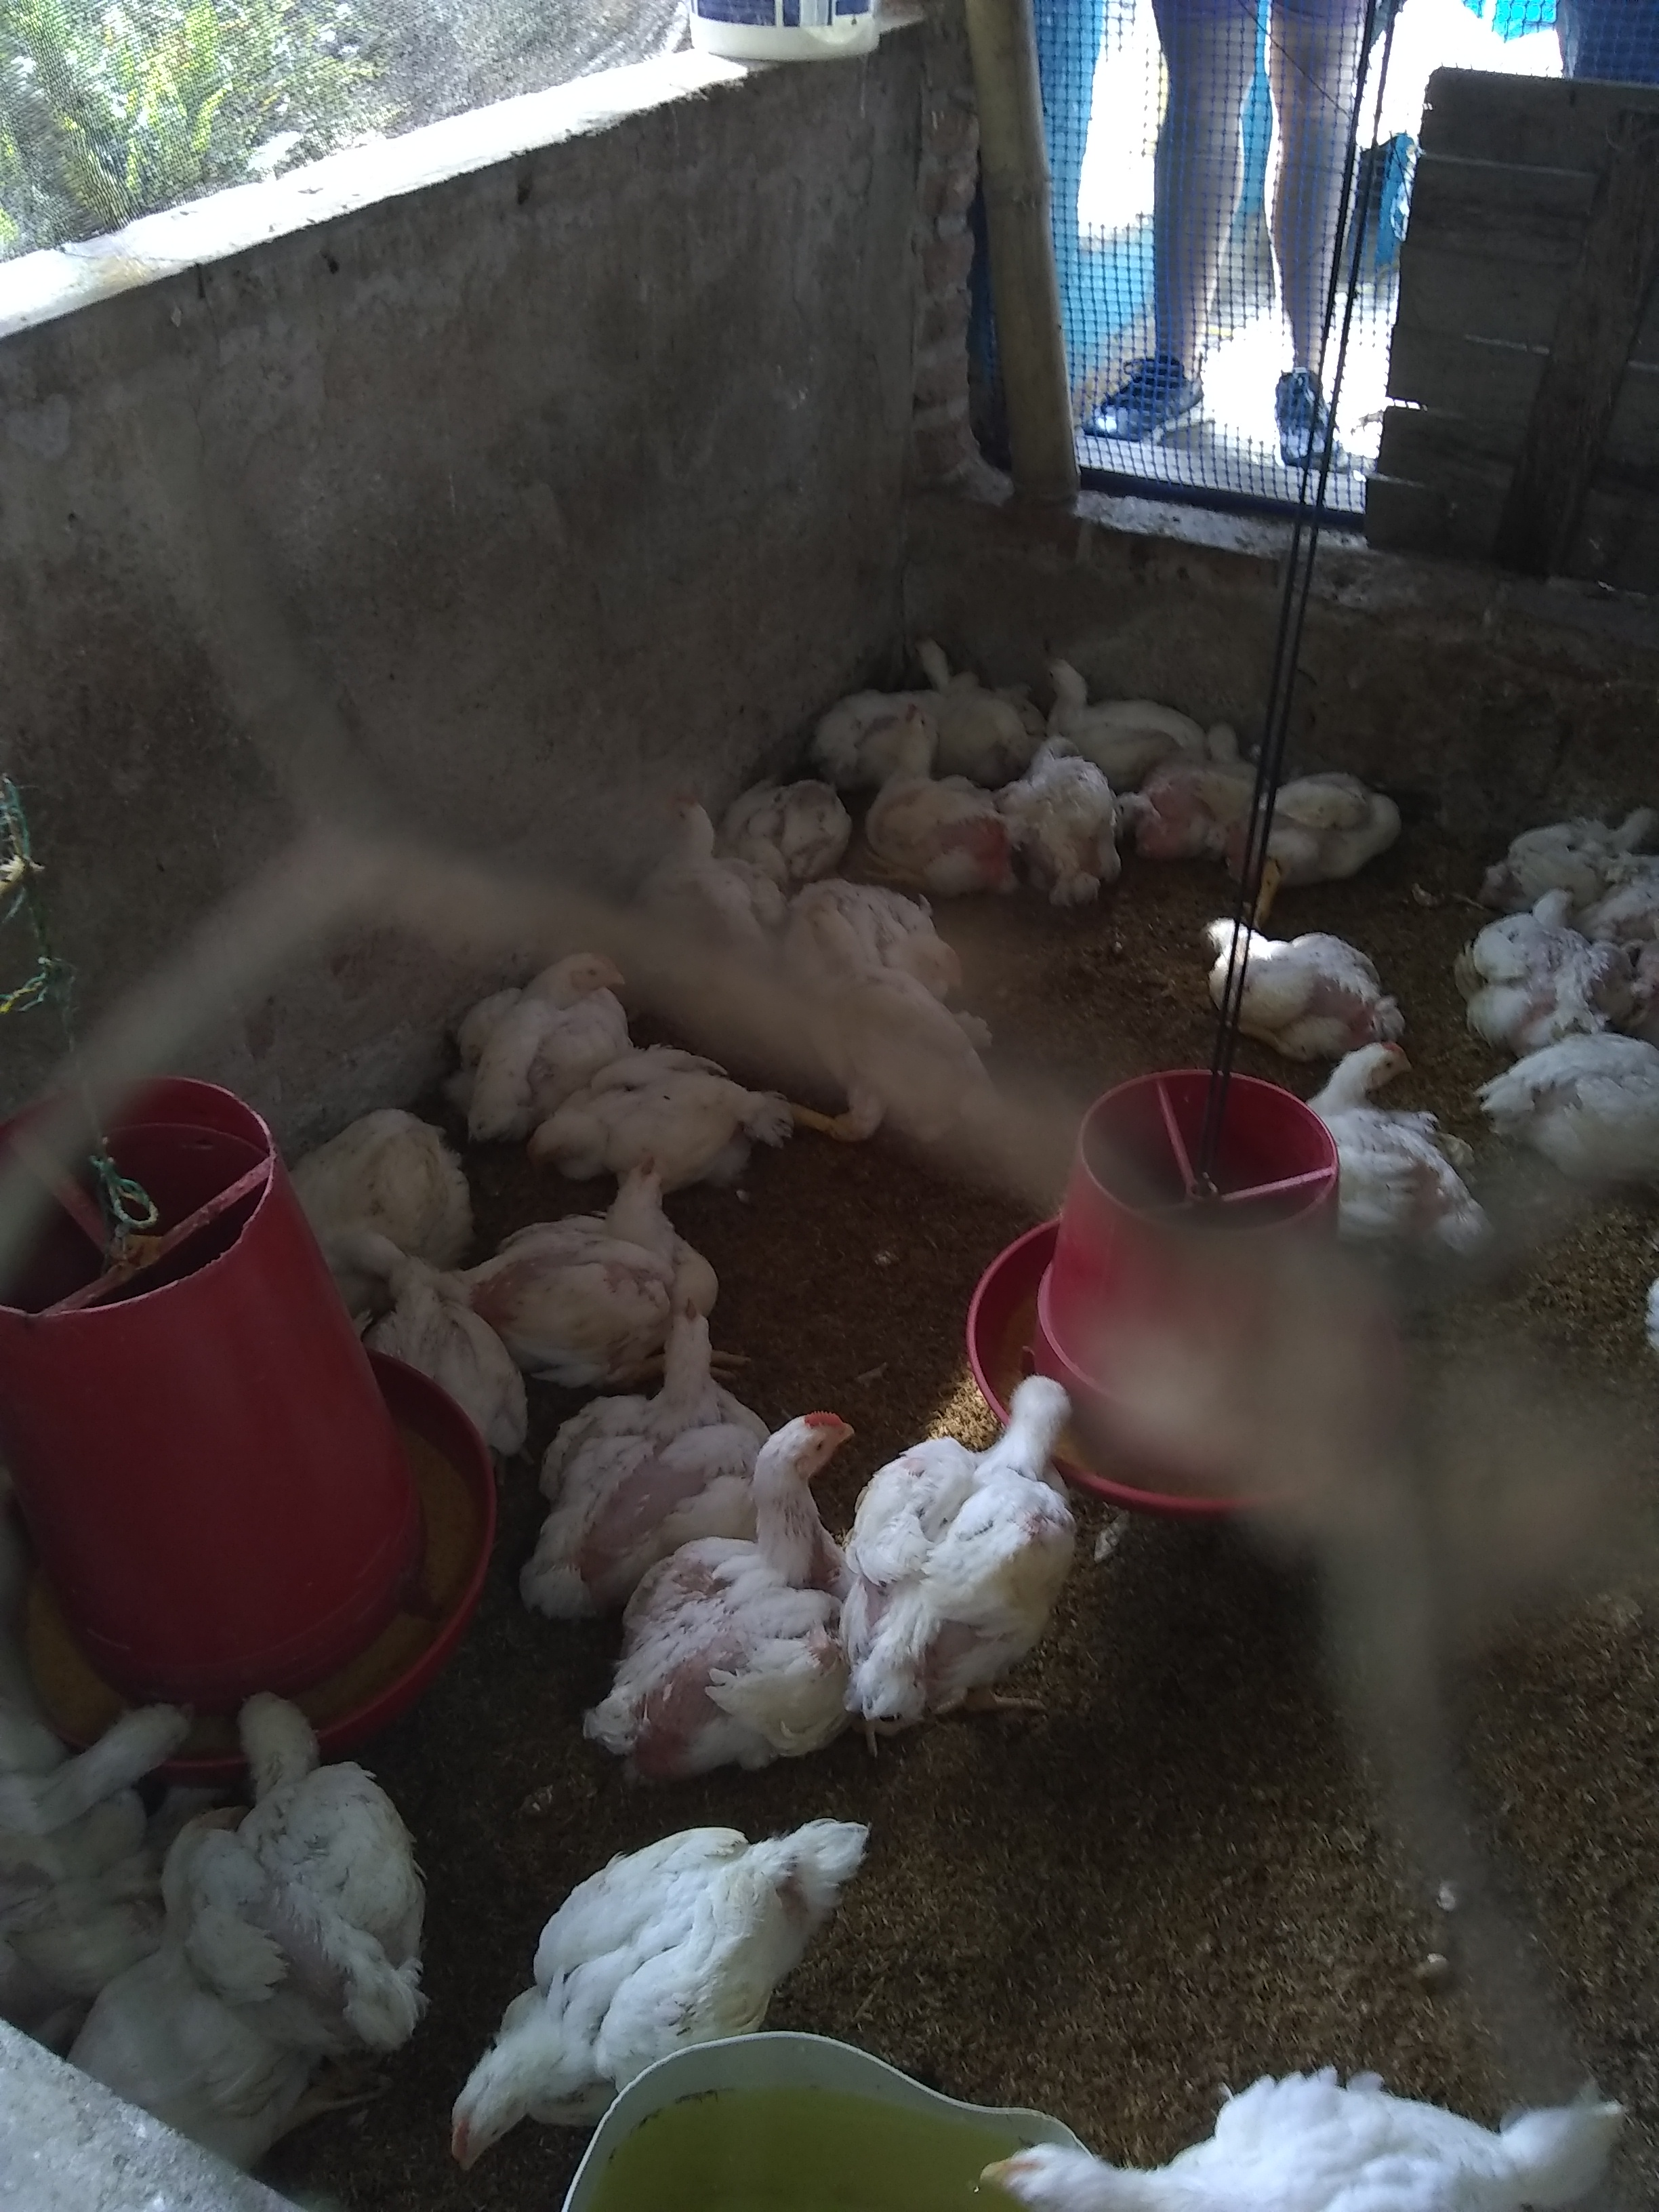Pollos: (450, 1824, 850, 2179), (974, 2083, 1643, 2202), (652, 1409, 856, 1733), (875, 1376, 1054, 1730), (228, 1700, 415, 2034), (525, 1057, 875, 1176), (1319, 1054, 1493, 1242), (612, 1306, 748, 1529), (532, 1151, 687, 1334), (870, 702, 1016, 892), (1211, 920, 1394, 1038), (465, 944, 622, 1082), (1122, 721, 1267, 862), (650, 801, 786, 941), (1471, 892, 1598, 1035), (1037, 657, 1201, 747)
